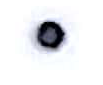cancer: (19, 7, 83, 63)
